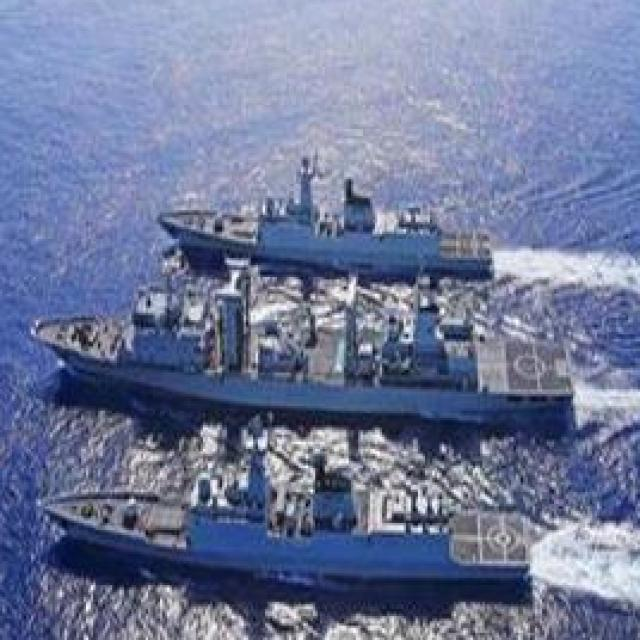navalvessels: (38, 424, 542, 602), (34, 268, 578, 411), (155, 153, 493, 274)
